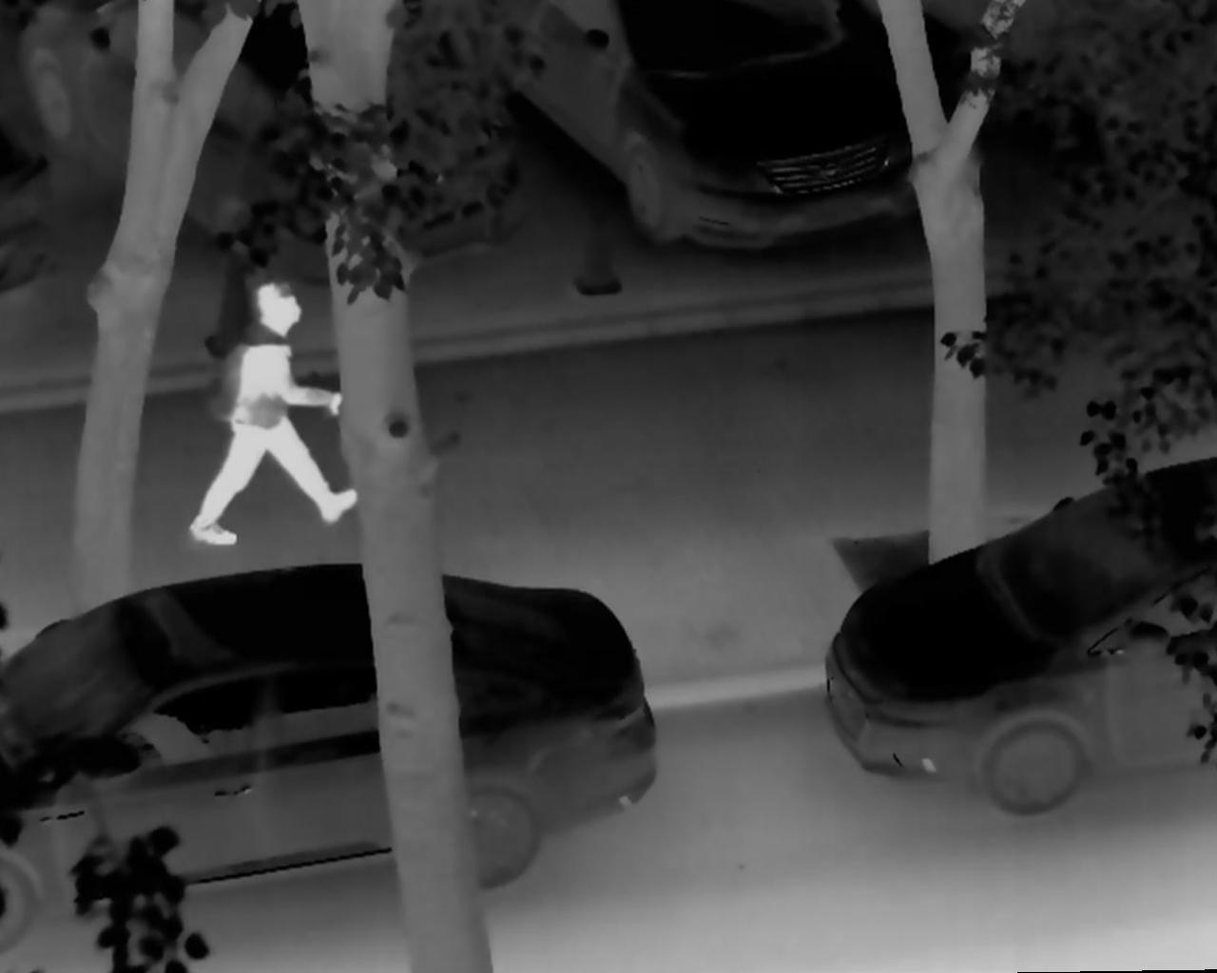person: (186, 280, 358, 552)
